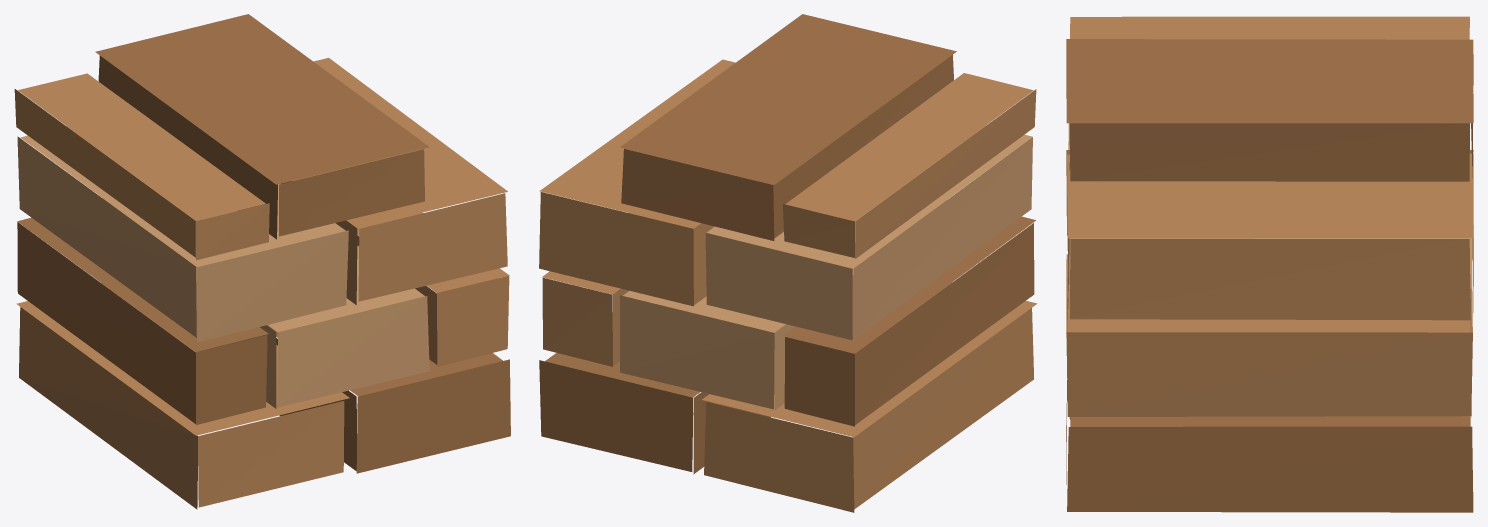
Rendered from ruin_wall.glb.
3 views of the same model, side by side, from view 1: azimuth 30°, elevation 25°; view 2: azimuth 150°, elevation 25°; view 3: azimuth 270°, elevation 25° (orthographic). The views are drawn at different scales.
Parts seen in each view (by area): view 1: block_3_1, block_0_0, block_2_0, block_3_0, block_1_0, block_2_1, block_0_1, block_1_1, block_1_2; view 2: block_3_1, block_0_0, block_2_0, block_3_0, block_1_0, block_2_1, block_1_1, block_0_1, block_1_2; view 3: block_3_1, block_2_1, block_1_2, block_0_1, block_3_0, block_1_1.
Part boxes in pixels (left/top/right/bottom): block_3_1: left=95, top=14, right=429, bottom=239; block_0_0: left=16, top=283, right=349, bottom=509; block_2_0: left=17, top=126, right=348, bottom=342; block_3_0: left=14, top=73, right=269, bottom=260; block_1_0: left=17, top=217, right=268, bottom=424; block_2_1: left=281, top=57, right=507, bottom=304; block_0_1: left=267, top=325, right=510, bottom=473; block_1_1: left=102, top=198, right=429, bottom=408; block_1_2: left=357, top=212, right=509, bottom=366; block_3_1: left=620, top=14, right=956, bottom=240; block_0_0: left=702, top=282, right=1037, bottom=512; block_2_0: left=705, top=125, right=1032, bottom=340; block_3_0: left=782, top=73, right=1036, bottom=258; block_1_0: left=783, top=216, right=1035, bottom=426; block_2_1: left=539, top=59, right=768, bottom=306; block_1_1: left=620, top=200, right=946, bottom=410; block_0_1: left=539, top=312, right=770, bottom=474; block_1_2: left=542, top=213, right=692, bottom=366; block_3_1: left=1066, top=39, right=1473, bottom=181; block_2_1: left=1067, top=153, right=1473, bottom=320; block_1_2: left=1066, top=294, right=1472, bottom=416; block_0_1: left=1066, top=380, right=1473, bottom=512; block_3_0: left=1066, top=16, right=1473, bottom=98; block_1_1: left=1067, top=238, right=1472, bottom=332.
Bounding box in the file's own units: 0.9799 × 0.9175 × 0.98.
